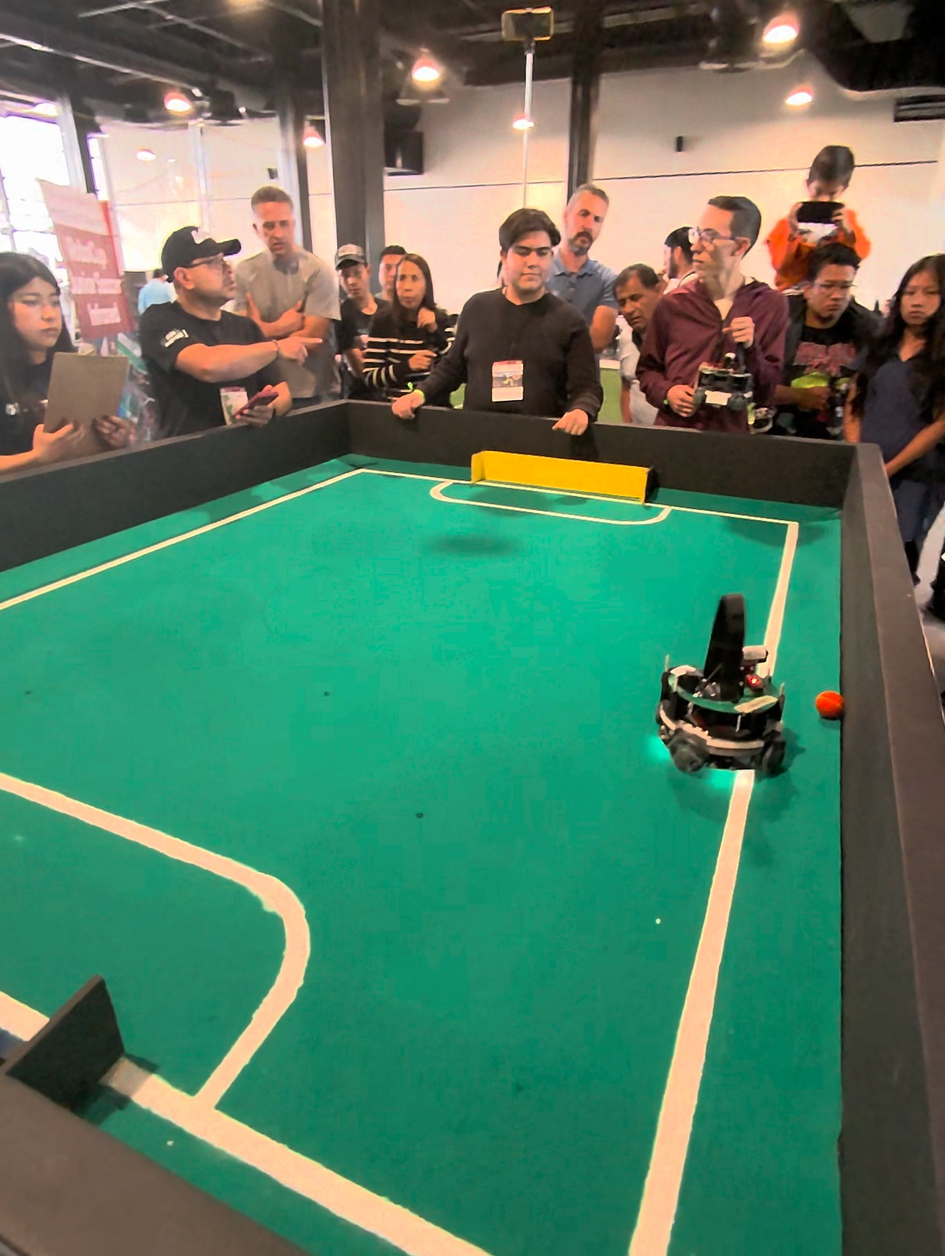Robot: (649, 588, 788, 791)
pelota: (815, 685, 842, 724)
